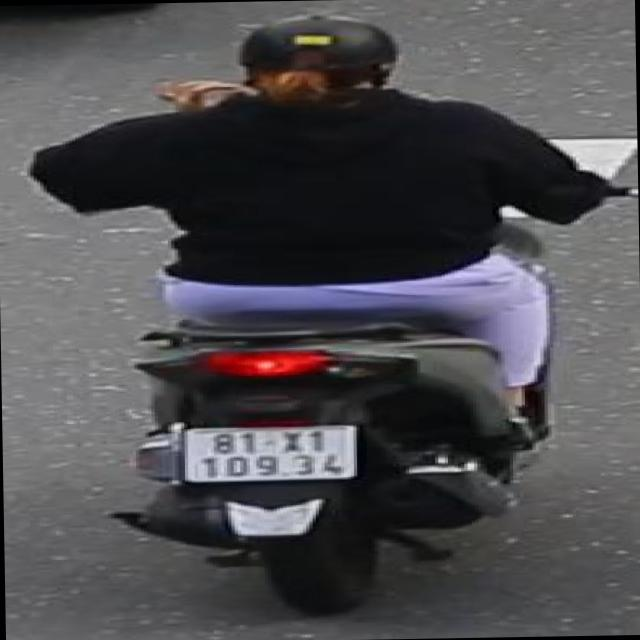LP: (179, 417, 369, 484)
helmet: (226, 8, 406, 108)
